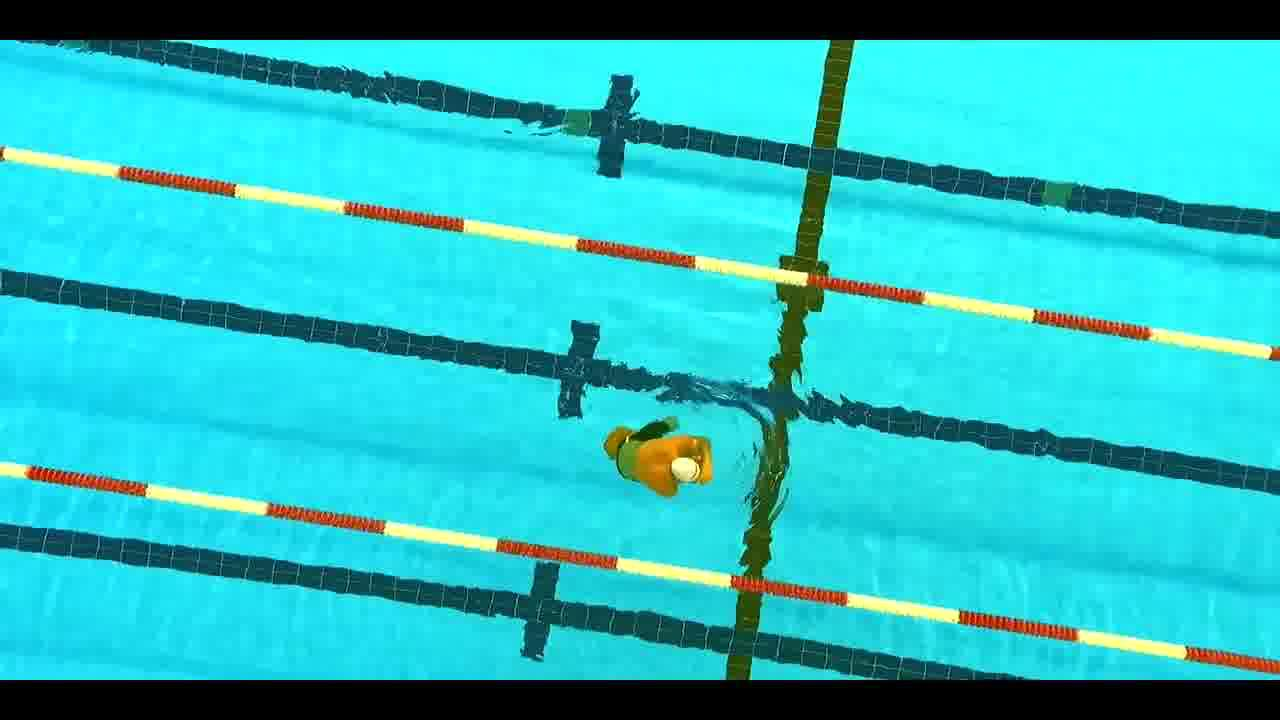swimmer: (594, 409, 723, 499)
